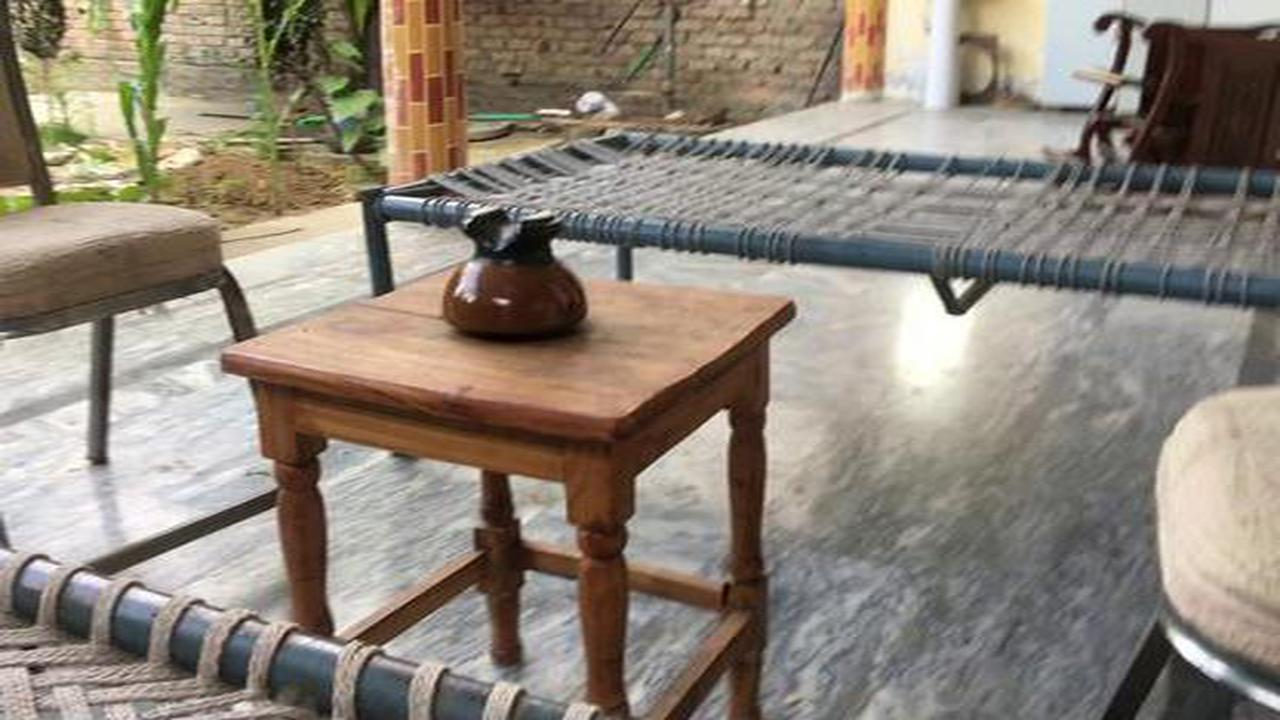insulator_pin: (425, 191, 610, 355)
